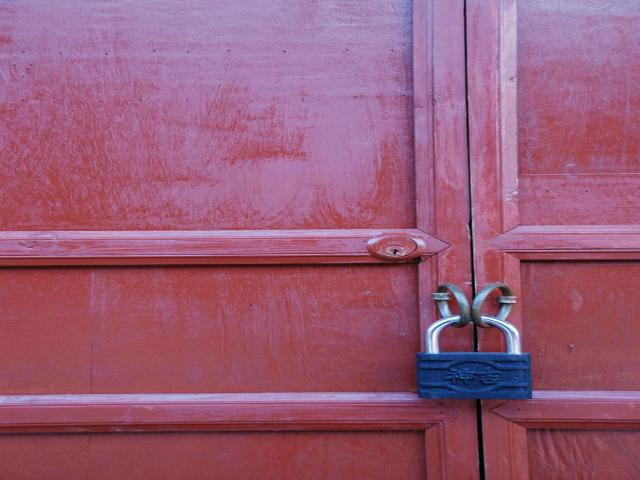Door-handle: (426, 282, 522, 331)
